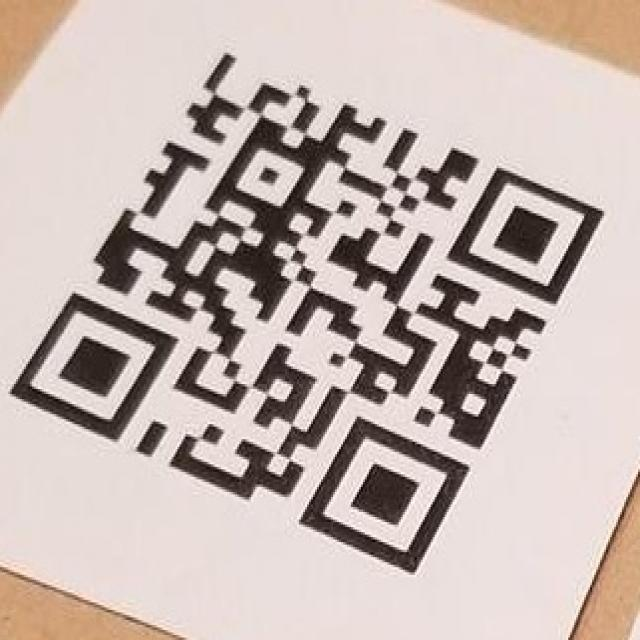QR_CODE: (10, 49, 606, 575)
